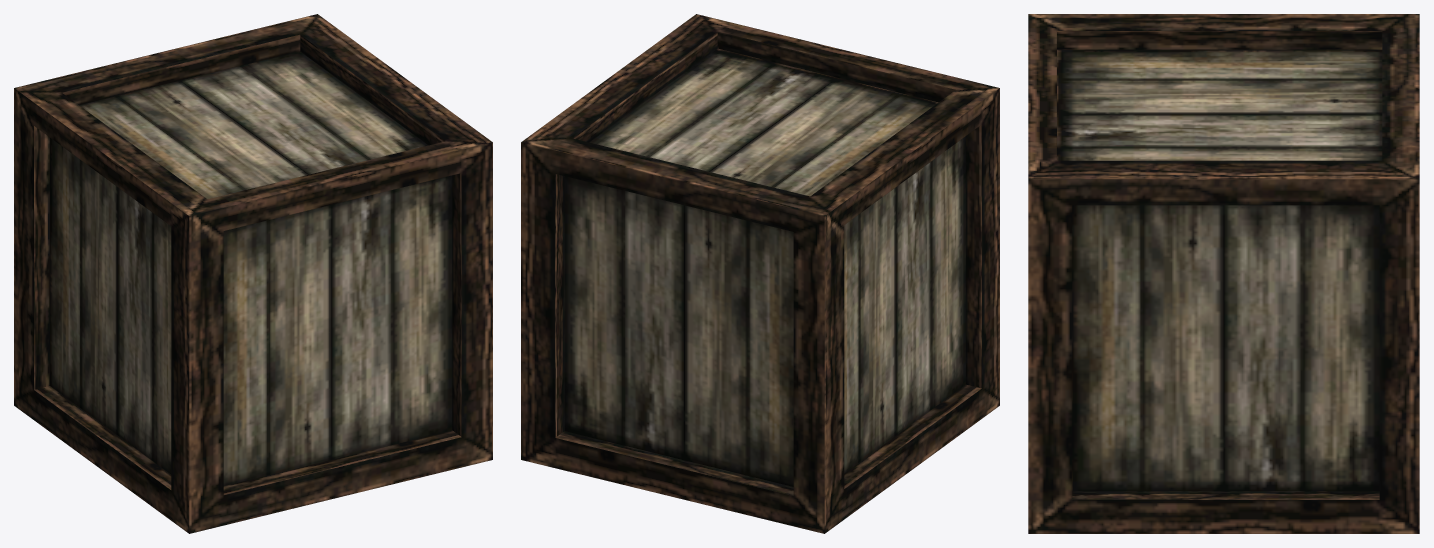
Rendered from INST_LAKETOWN_CRATEDIRTY.fbx.
3 renders of one model, left to right at view 1: azimuth 30°, elevation 25°; view 2: azimuth 150°, elevation 25°; view 3: azimuth 270°, elevation 25°, orthographic. The views are drawn at different scales.
Visible parts, largest first — view 1: INST_LAKETOWN_CRATEDIRTY; view 2: INST_LAKETOWN_CRATEDIRTY; view 3: INST_LAKETOWN_CRATEDIRTY.
Part boxes in pixels (x1,y1,x2,y2): INST_LAKETOWN_CRATEDIRTY: (14,14,492,533); INST_LAKETOWN_CRATEDIRTY: (521,14,999,533); INST_LAKETOWN_CRATEDIRTY: (1028,14,1419,533).
Size of the model in its own units: 7095 by 7095 by 7095.
Materials: 1 (1 with a texture image).
